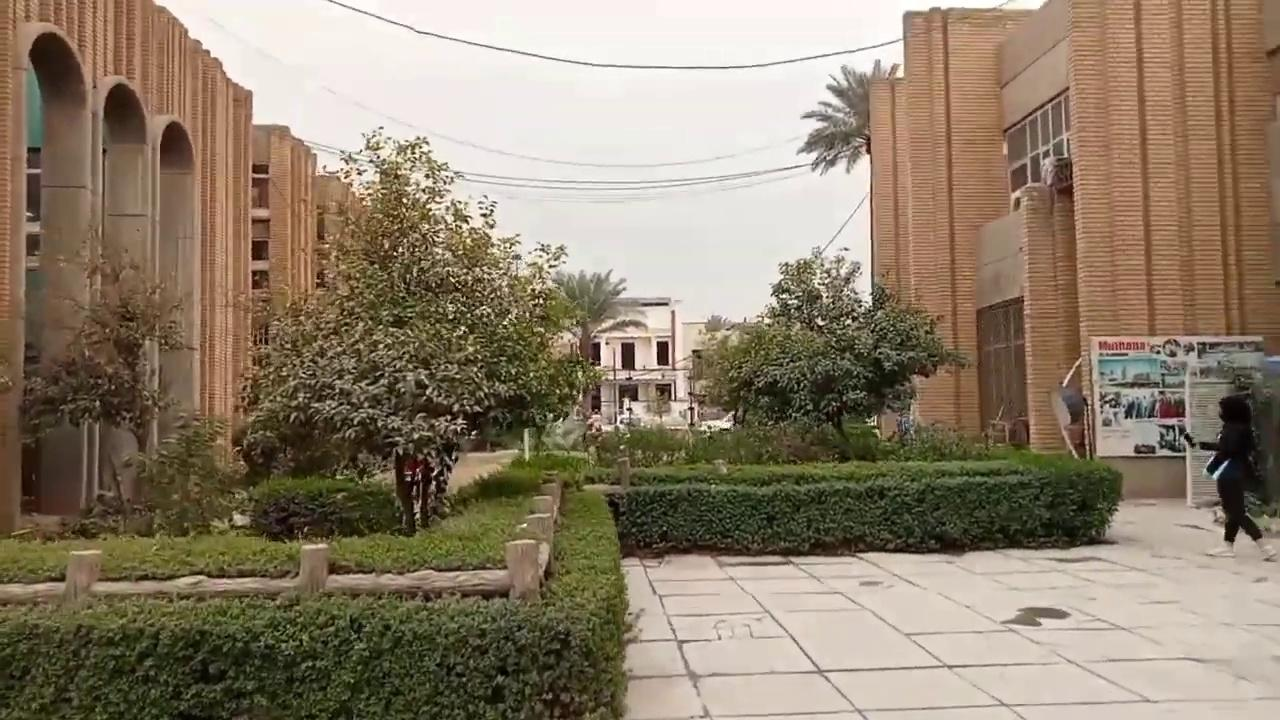person: (1204, 394, 1277, 561), (586, 407, 602, 436)
tree: (232, 124, 605, 534), (692, 243, 970, 453), (17, 222, 198, 533), (796, 57, 900, 306), (127, 408, 245, 536), (546, 267, 631, 421), (796, 57, 900, 176)
